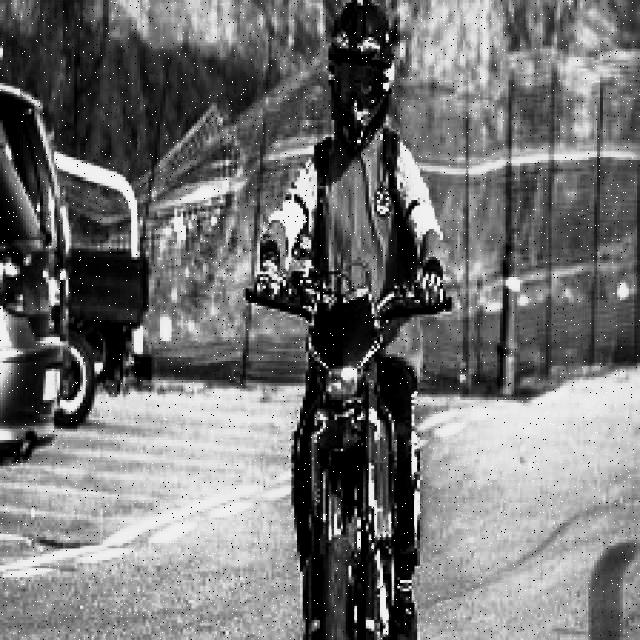Bike: (285, 283, 411, 639)
